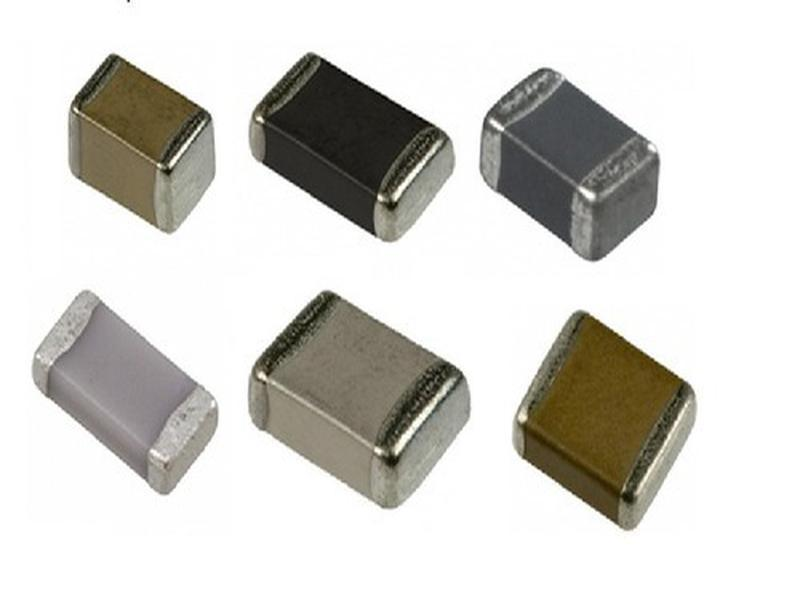SMD capacitor: (521, 316, 699, 526), (73, 59, 234, 221)
